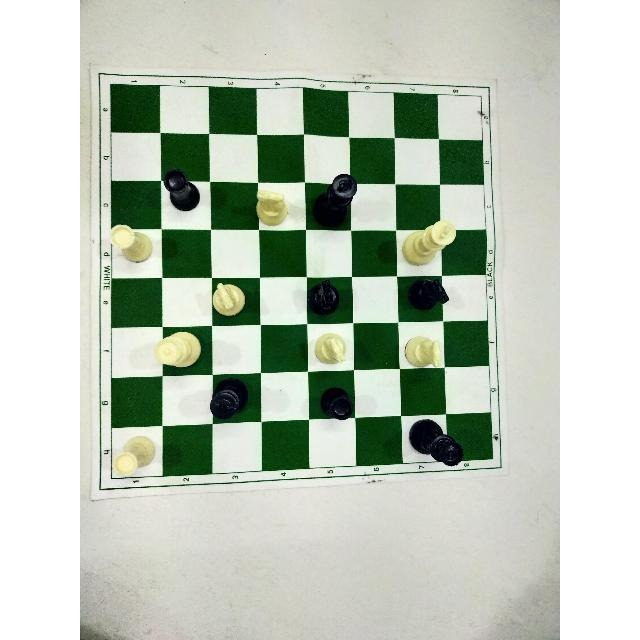black-king: (312, 171, 358, 226), (206, 374, 250, 426)
black-knight: (401, 279, 450, 315), (305, 277, 344, 316)
black-queen: (402, 416, 466, 468)
black-rook: (157, 164, 200, 216), (315, 384, 354, 425)
white-king: (396, 216, 457, 268)
white-knight: (404, 332, 447, 373), (308, 329, 351, 369), (210, 278, 246, 323), (252, 186, 290, 226)
white-queen: (155, 331, 202, 375)
white-rook: (110, 431, 154, 480), (106, 222, 152, 266)
